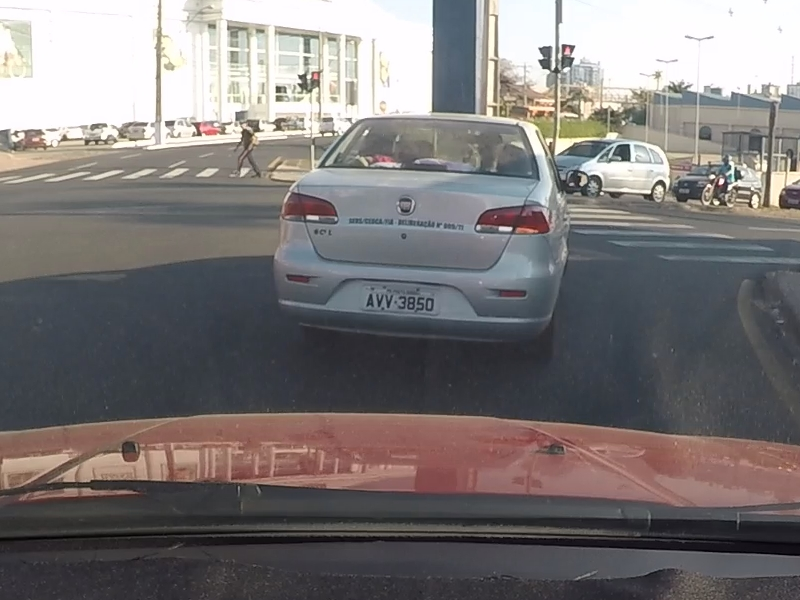placa: (360, 285, 441, 315)
